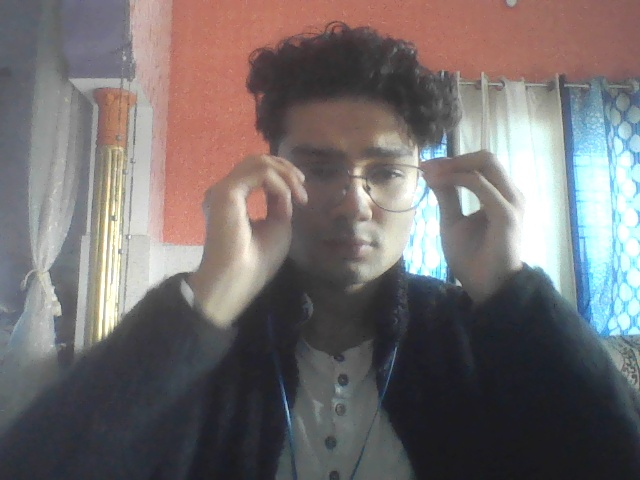real: (258, 34, 445, 299)
